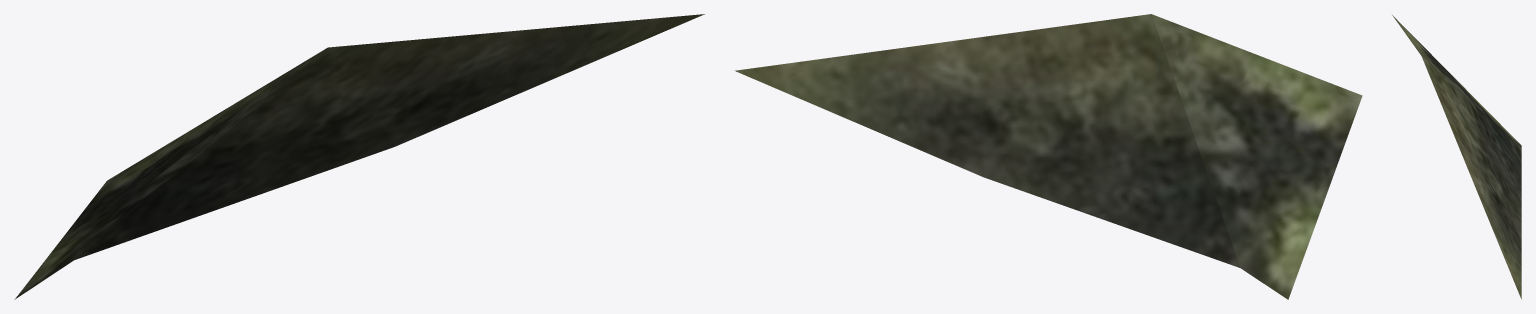
The picture shows the model from 3 angles, left to right: view 1: azimuth 30°, elevation 25°; view 2: azimuth 150°, elevation 25°; view 3: azimuth 270°, elevation 25°; orthographic projection. The views are drawn at different scales.
Bounding box in the file's own units: 4.99 × 1.69 × 1.16.
1 material, 1 textured.
